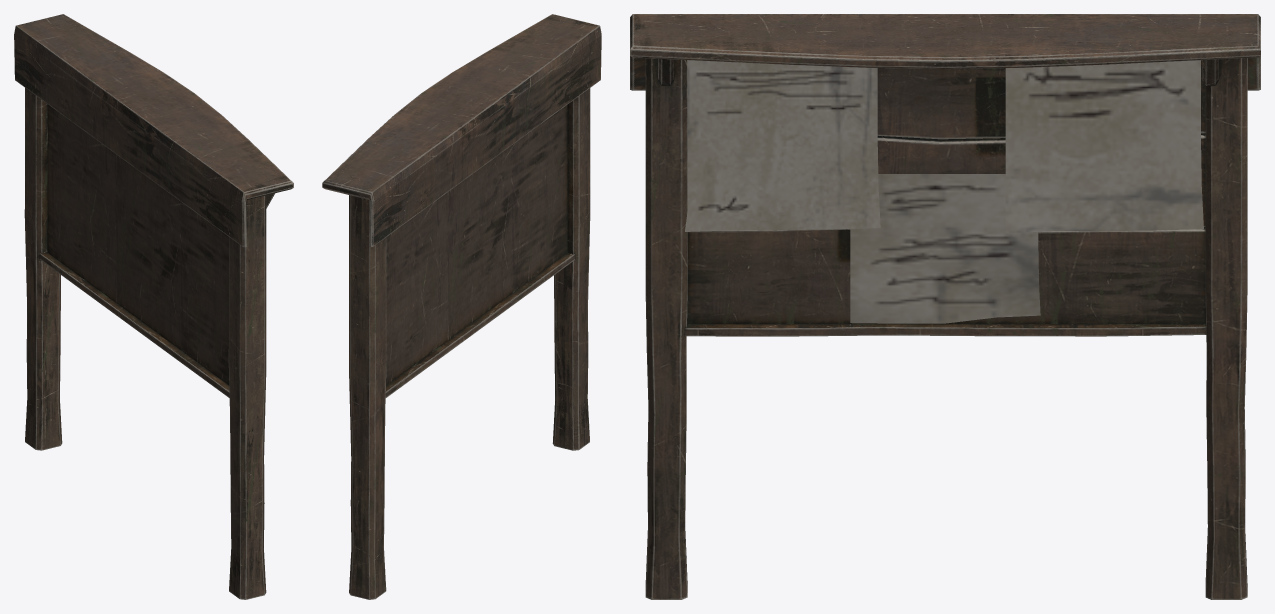
File: tablero.glb
3 views of the same model, side by side, from view 1: azimuth 30°, elevation 25°; view 2: azimuth 150°, elevation 25°; view 3: azimuth 270°, elevation 25° (orthographic). The views are drawn at different scales.
Parts seen in each view (by area): view 1: Cube; view 2: Cube; view 3: Cube.
Part boxes in pixels (box(x1,y1,x2,y2)): Cube: box(14, 14, 293, 599); Cube: box(322, 14, 601, 599); Cube: box(630, 14, 1260, 599).
Bounding box in the file's own units: 0.4733 × 2.73 × 2.76.
Materials: 1 (1 with a texture image).
